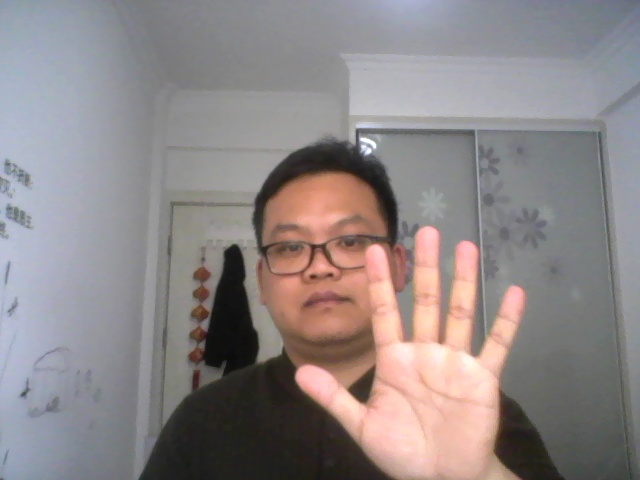Hello: (286, 219, 537, 480)
